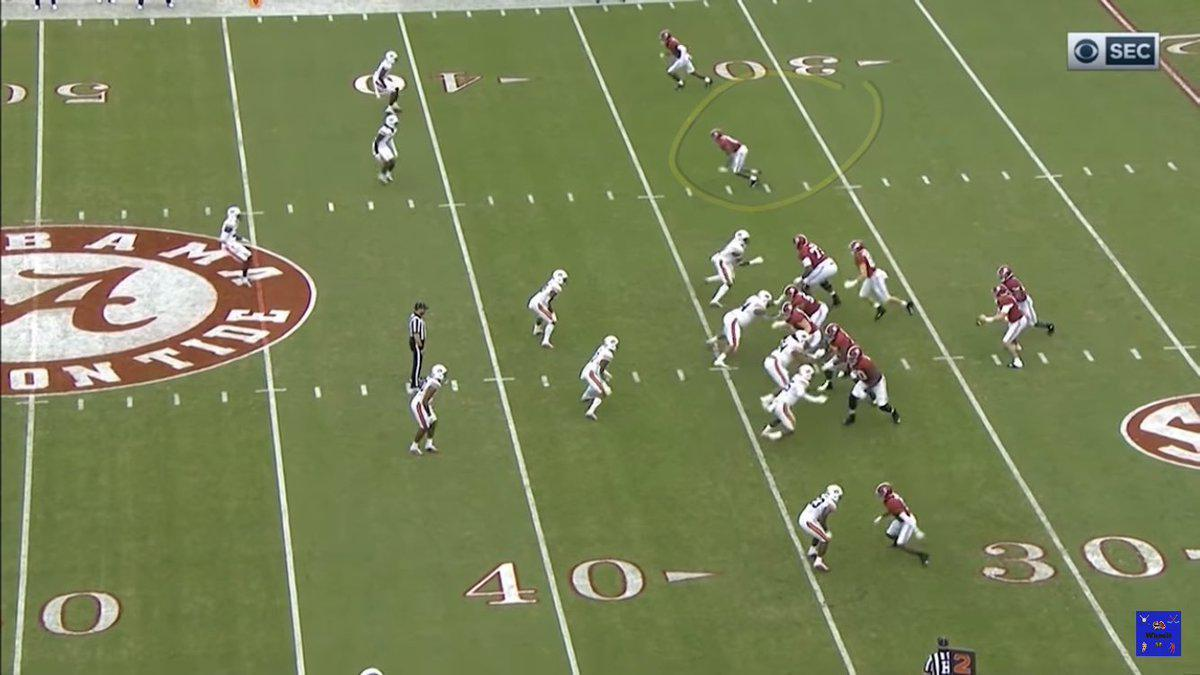player: (702, 290, 779, 371), (842, 240, 911, 327), (840, 340, 905, 431), (758, 360, 826, 445), (871, 480, 932, 567), (702, 227, 765, 309), (973, 284, 1031, 372), (759, 324, 813, 411), (796, 483, 845, 578), (405, 360, 450, 460), (709, 125, 771, 196), (997, 263, 1055, 337), (582, 333, 626, 425), (526, 267, 569, 352), (657, 29, 714, 93), (792, 232, 843, 295), (220, 211, 260, 291), (372, 105, 409, 189), (820, 318, 857, 389), (366, 48, 407, 112), (779, 298, 825, 353), (782, 282, 828, 334)
ref: (405, 300, 434, 390)
